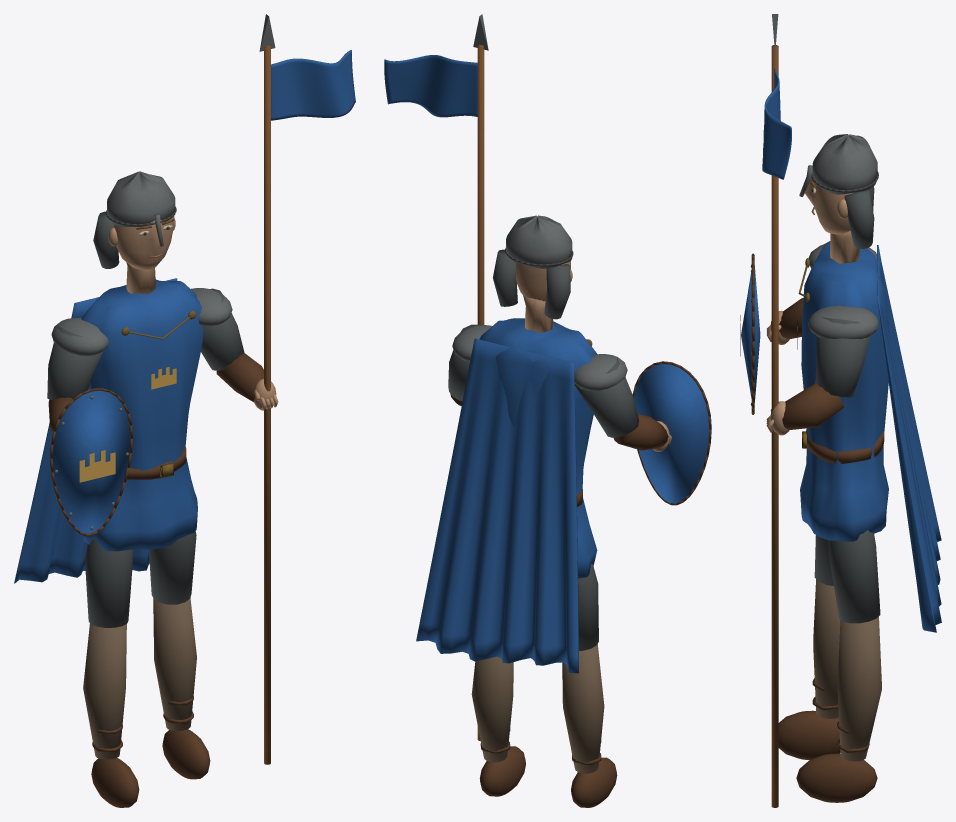
File: SM_HeroeCapitanNatural_A_LOD0.fbx
3 views of the same model, side by side, from view 1: azimuth 30°, elevation 25°; view 2: azimuth 150°, elevation 25°; view 3: azimuth 270°, elevation 25° (orthographic). The views are drawn at different scales.
Parts seen in each view (by area): view 1: SM_HeroeCapitanNatural_A_LOD0; view 2: SM_HeroeCapitanNatural_A_LOD0; view 3: SM_HeroeCapitanNatural_A_LOD0.
Part boxes in pixels (x1=…): SM_HeroeCapitanNatural_A_LOD0: x1=14, y1=14, x2=355, y2=807; SM_HeroeCapitanNatural_A_LOD0: x1=384, y1=14, x2=711, y2=807; SM_HeroeCapitanNatural_A_LOD0: x1=740, y1=14, x2=941, y2=807.
Size of the model in its own units: 0.24 by 0.552 by 0.124.
1 material, 1 textured.
